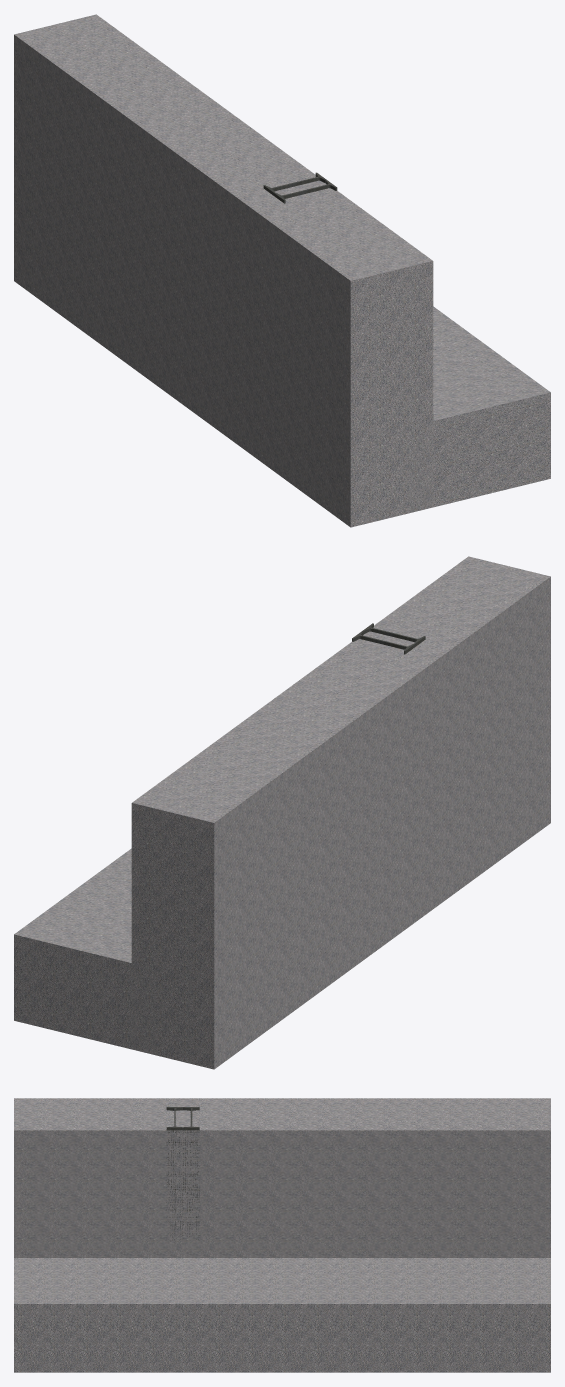
3 views of the same model, one above another, from view 1: azimuth 30°, elevation 25°; view 2: azimuth 150°, elevation 25°; view 3: azimuth 270°, elevation 25° (orthographic). The views are drawn at different scales.
Visible parts, largest first — view 1: 0_0_2_2_2_1_0_0_0; view 2: 0_0_2_2_2_1_0_0_0; view 3: 0_0_2_2_2_1_0_0_0.
Boxes of the visible parts, <box> form: 0_0_2_2_2_1_0_0_0: <box>14,14,550,527</box>; 0_0_2_2_2_1_0_0_0: <box>14,556,550,1069</box>; 0_0_2_2_2_1_0_0_0: <box>14,1098,550,1372</box>.
Bounding box in the file's own units: 1.7 × 2.03 × 4.95.
4 materials, 4 textured.
